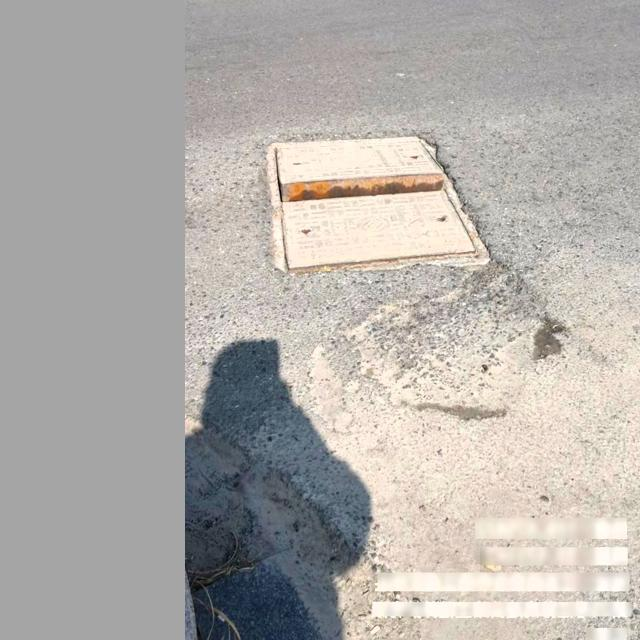uncovered: (264, 135, 489, 275)
